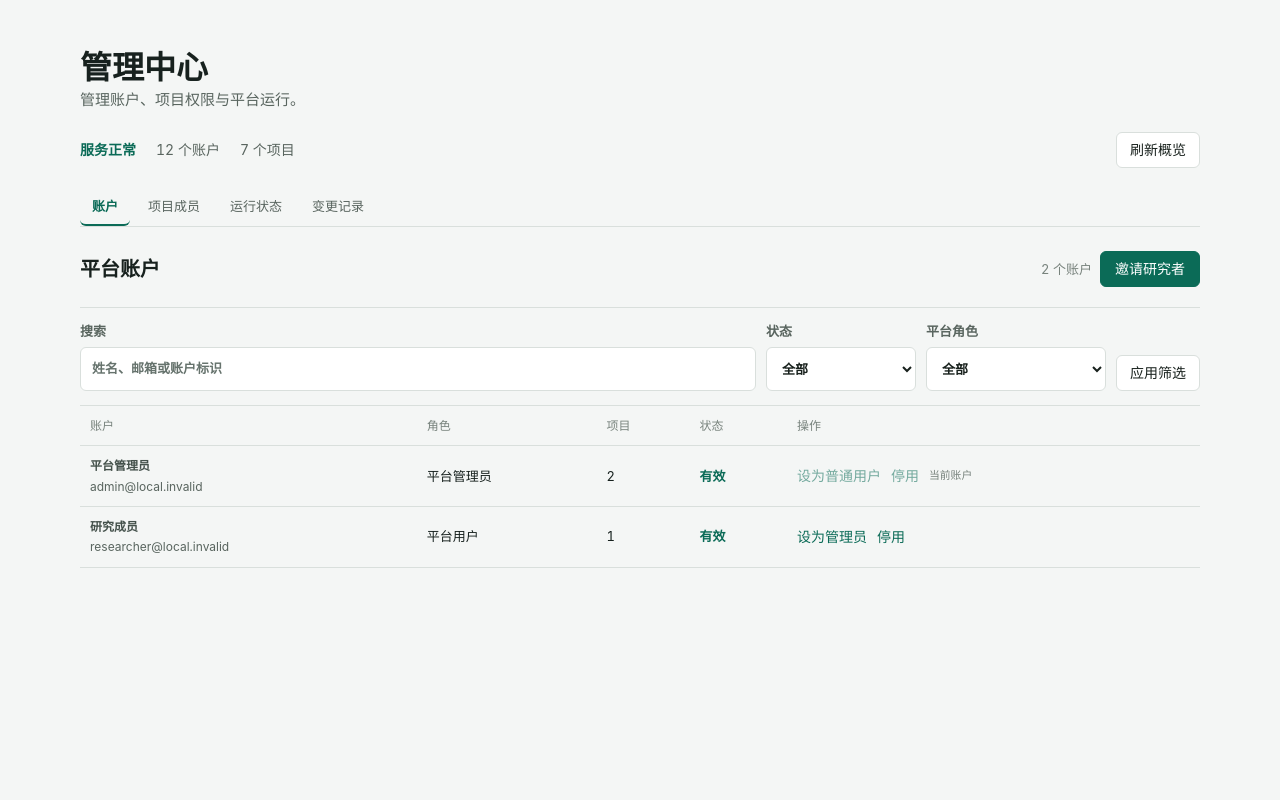
Scenario: keeps project ownership immutable while allowing bounded collaborator roles
Check: the heading "管理中心" is shown, box [80,48,208,87]
Click the tab "项目成员": (174, 207) [136,188,212,226]
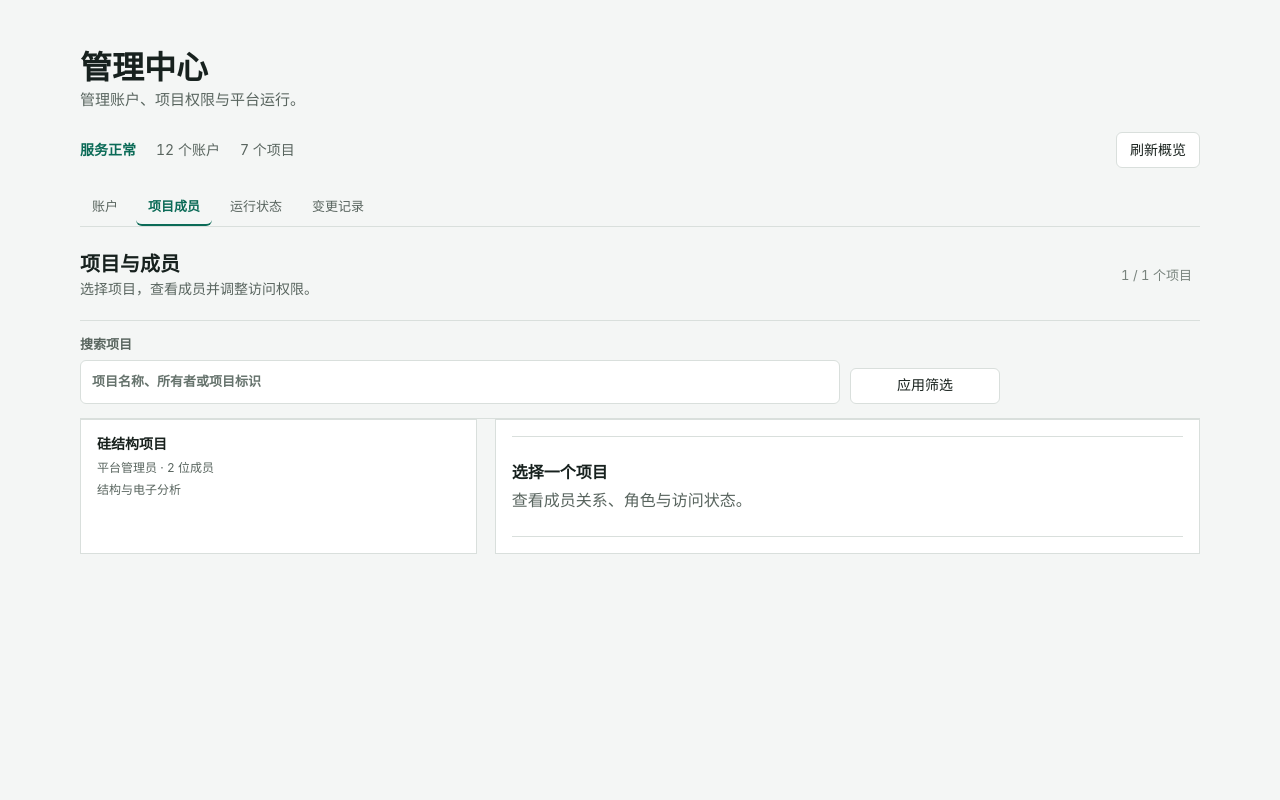
Click the button "硅结构项目 平台管理员 · 2 位成员 结构与电子分析": (132, 443) [81,420,476,513]
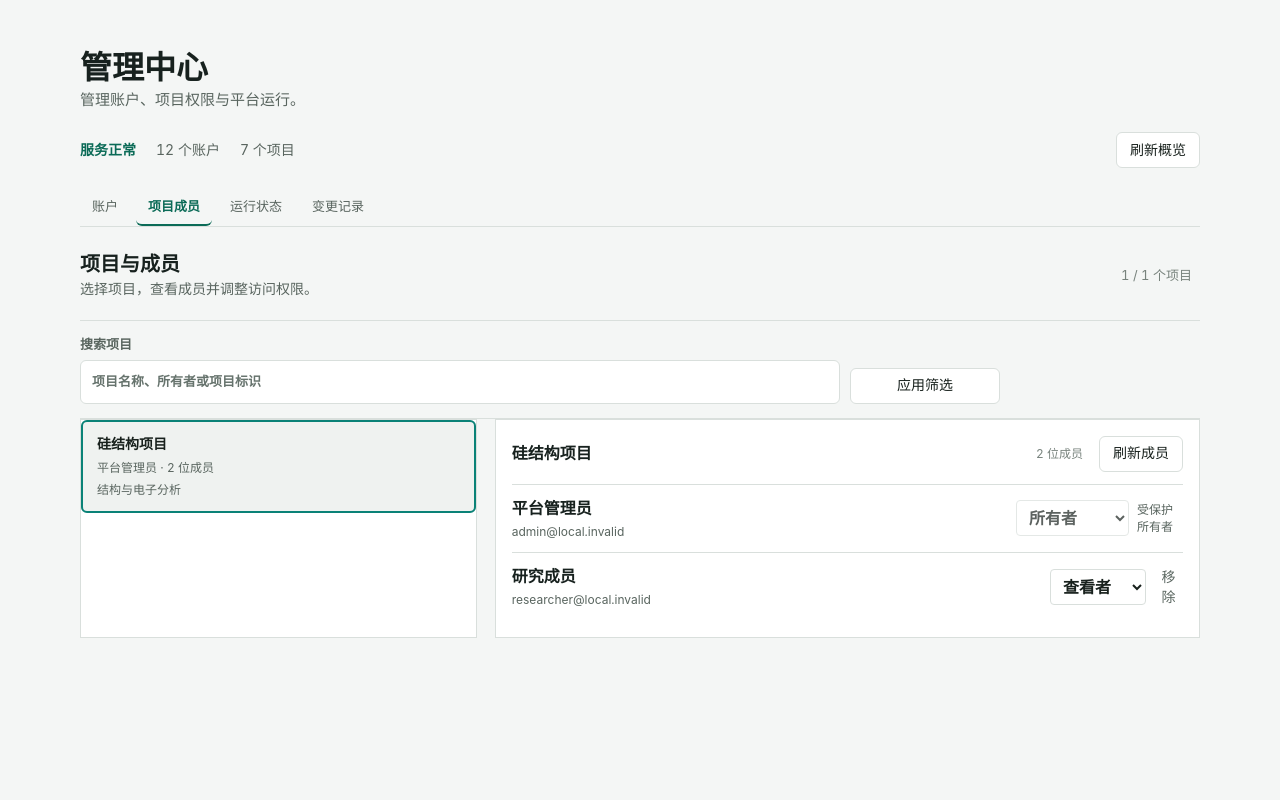
Check: the dropdown named "平台管理员 的项目角色" is disabled, box [1016,500,1129,536]
Check: the dropdown named "平台管理员 的项目角色" shows "所有者", box [1016,500,1129,536]
Select "研究者" in the dropdown named "研究成员 的项目角色": (1098, 587) [1050,569,1146,605]
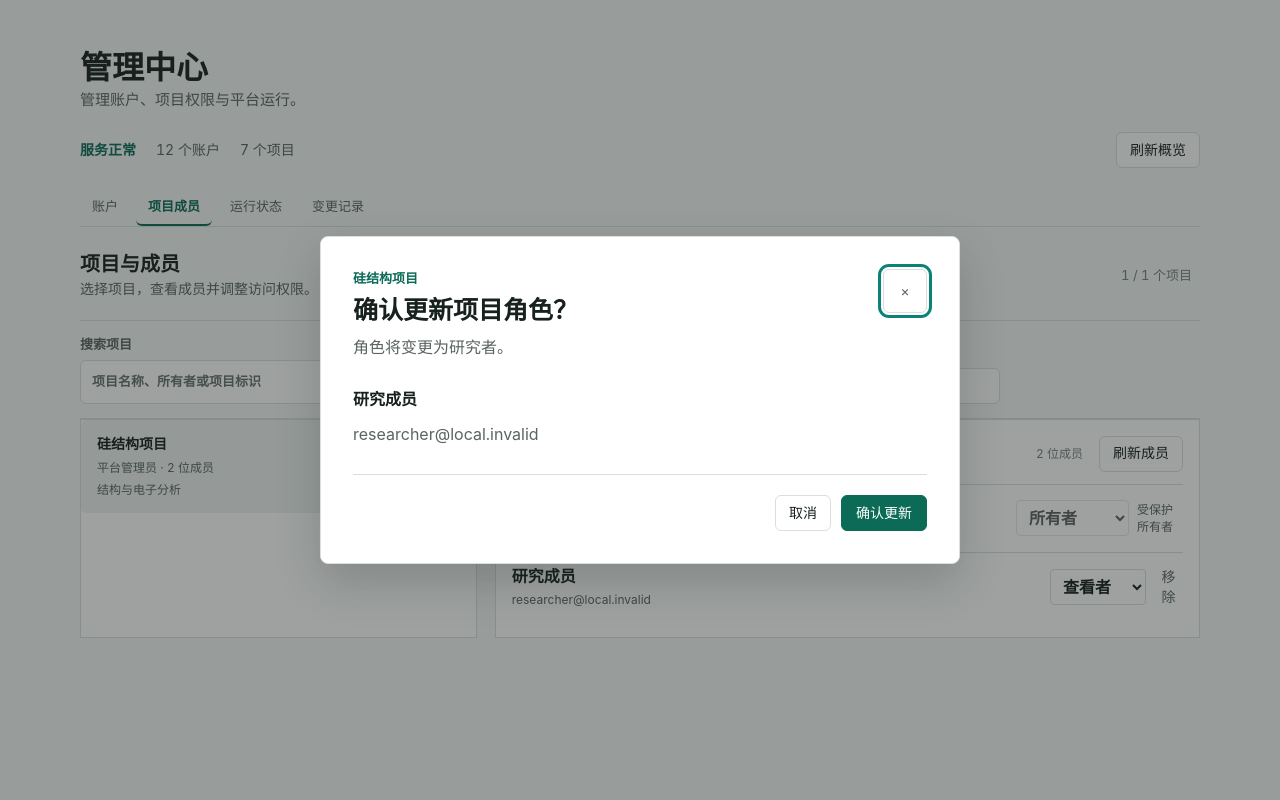
Check: the dialog shows "确认更新项目角色", box [353,295,578,325]
Check: the dialog shows "研究者", box [320,236,960,564]
